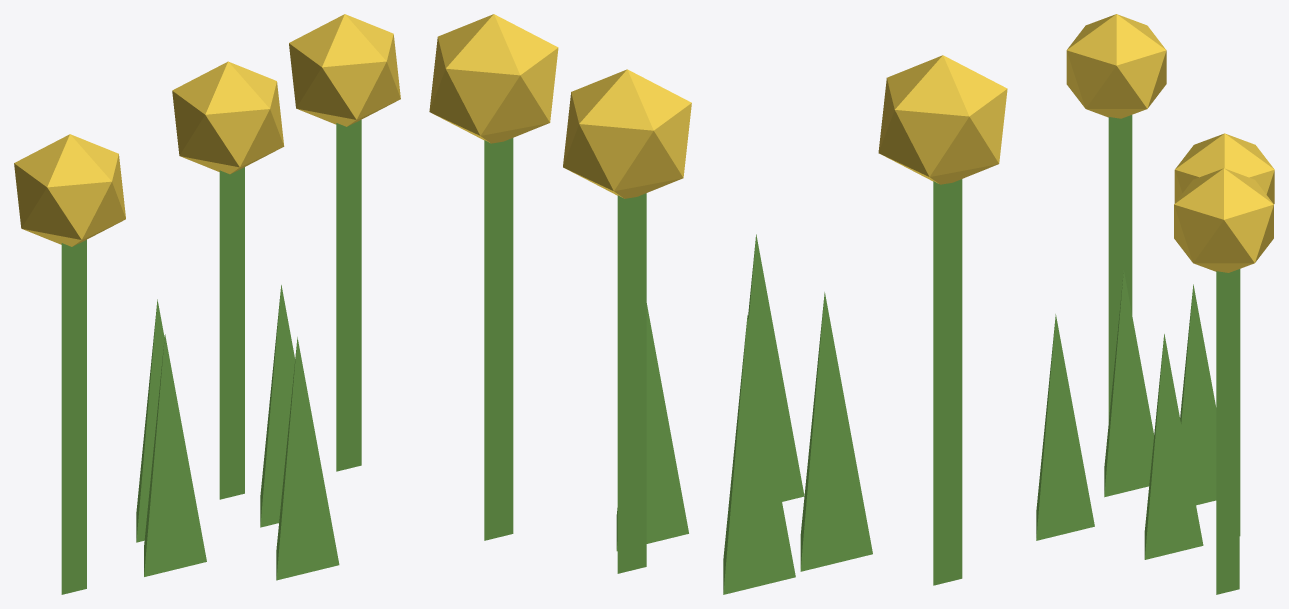
Rendered from grass_flowers_yellow.glb.
3 views of the same model, side by side, from view 1: azimuth 30°, elevation 25°; view 2: azimuth 150°, elevation 25°; view 3: azimuth 270°, elevation 25° (orthographic). The views are drawn at different scales.
Visible parts, largest first — view 1: grass_flowers_yellow.001; view 2: grass_flowers_yellow.001; view 3: grass_flowers_yellow.001.
Boxes of the visible parts, box(x1,y1,x2,y2) form: grass_flowers_yellow.001: box(14, 14, 400, 594); grass_flowers_yellow.001: box(429, 14, 1007, 594); grass_flowers_yellow.001: box(1036, 14, 1274, 594).
Size of the model in its own units: 0.3545 by 0.3582 by 0.1826.
1 material, 1 textured.
